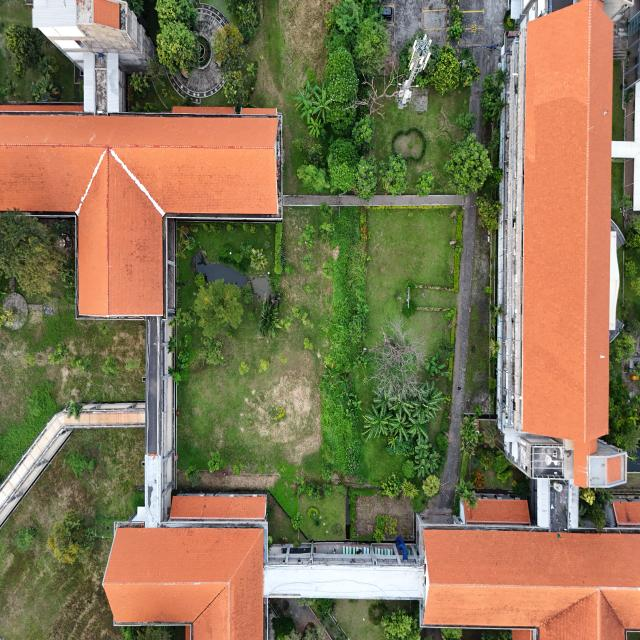Tree: (446, 132, 490, 194), (156, 24, 200, 71), (379, 150, 410, 197), (356, 153, 378, 199), (223, 66, 249, 103), (258, 294, 278, 340), (378, 471, 402, 503), (352, 114, 375, 146), (415, 167, 435, 200), (15, 524, 34, 553), (66, 452, 88, 476), (206, 447, 224, 475), (421, 474, 441, 497), (100, 355, 116, 375)
